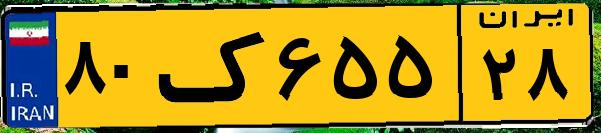0: (110, 28, 158, 98)
2: (475, 38, 525, 113)
5: (385, 28, 445, 110), (330, 28, 385, 110)
6: (270, 28, 330, 110)
8: (57, 26, 110, 100), (525, 38, 570, 115)
ک: (158, 12, 270, 120)
